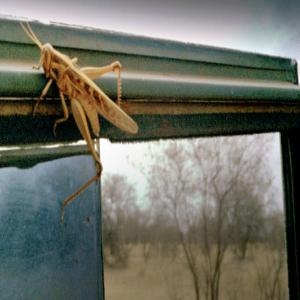locust: (18, 16, 136, 198)
